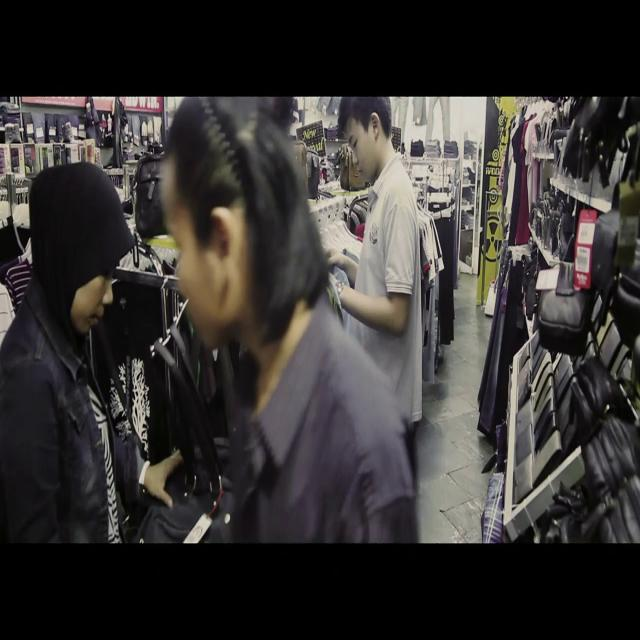normal: (148, 92, 326, 550), (0, 135, 165, 547), (329, 95, 409, 268)
